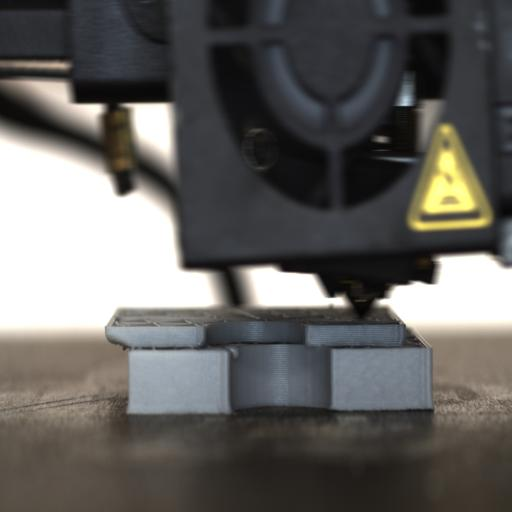layer_shift: (105, 331, 432, 355)
